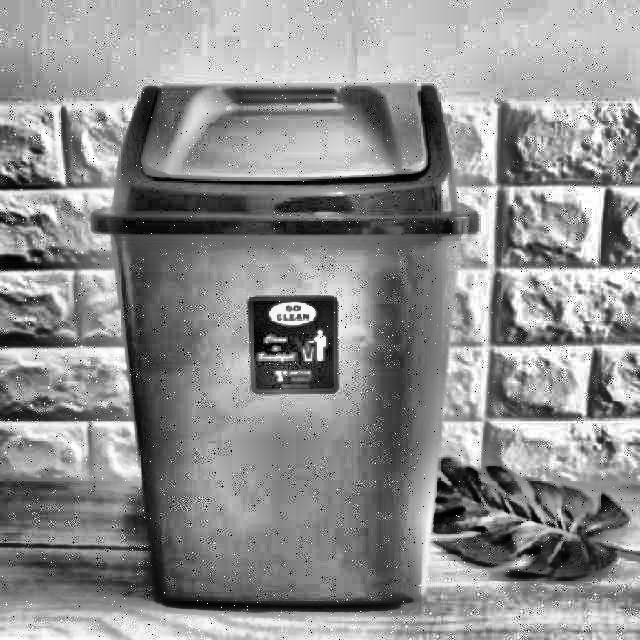Dustbin: (85, 77, 488, 631)
